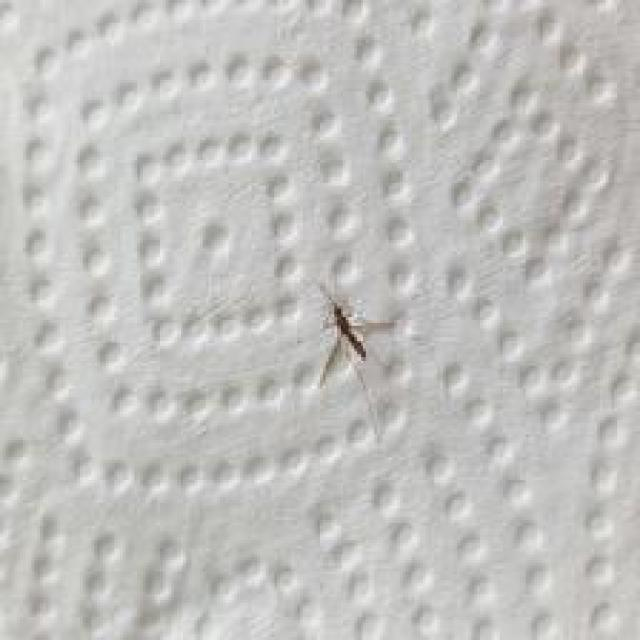Culex: (311, 280, 400, 440)
